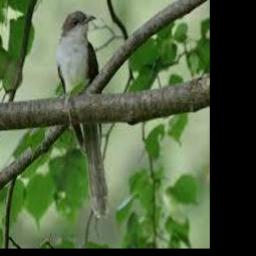Cuckoo: (56, 11, 107, 219)
